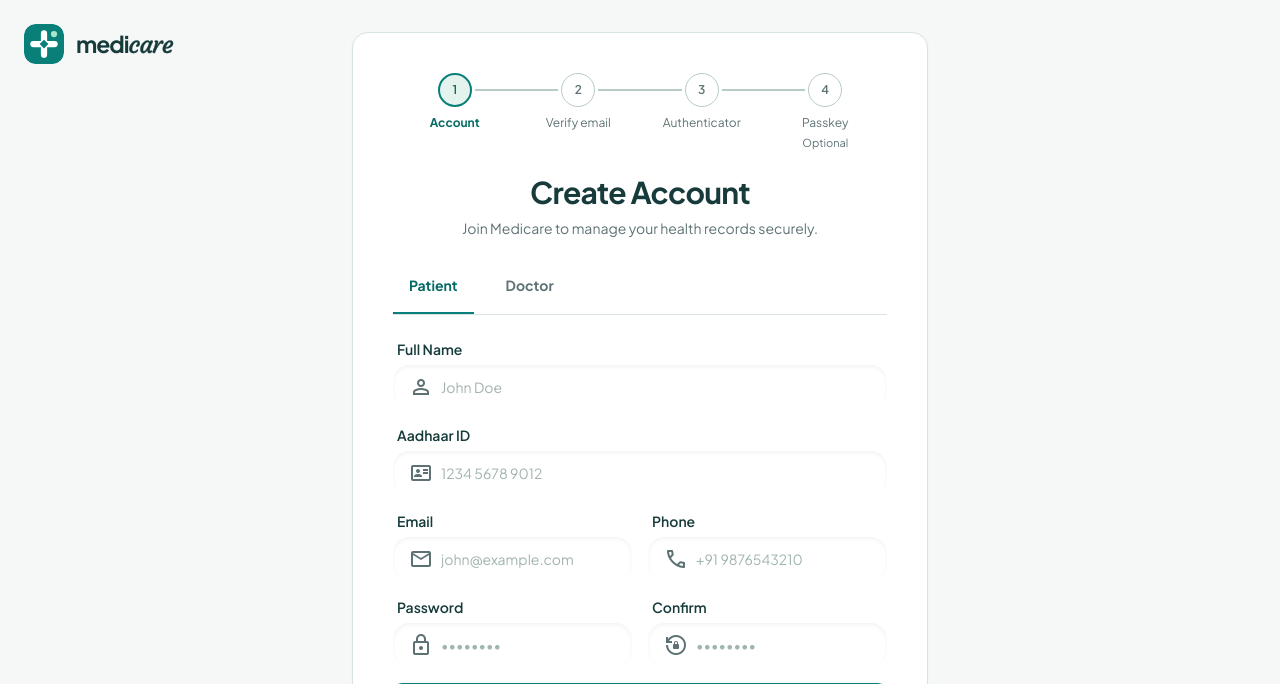
Test case: shows the credential review flow for doctors without patient verification steps
The image size is (1280, 684).
Click the button "Doctor" at (530, 292), box 490,270 -> 570,314
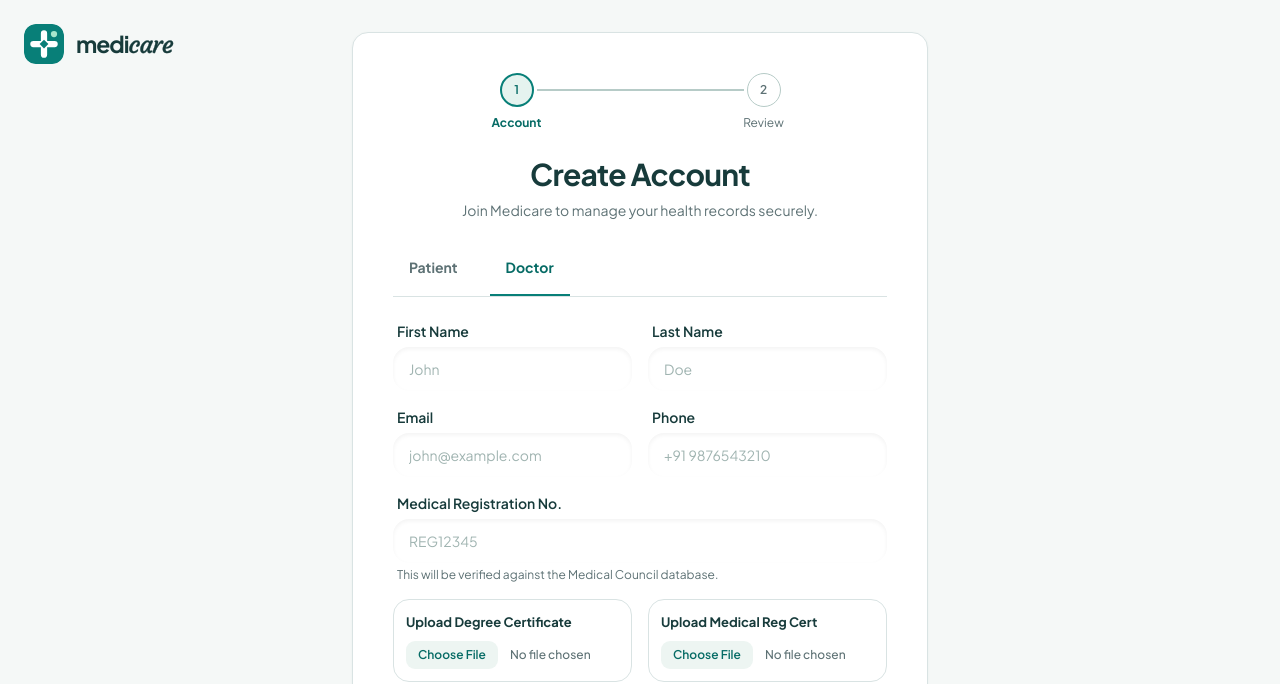
Check: the text "Review" is shown, box 743,115 -> 784,130
Check: the text "Verify email" is gone
Check: the text "Passkey" is gone
